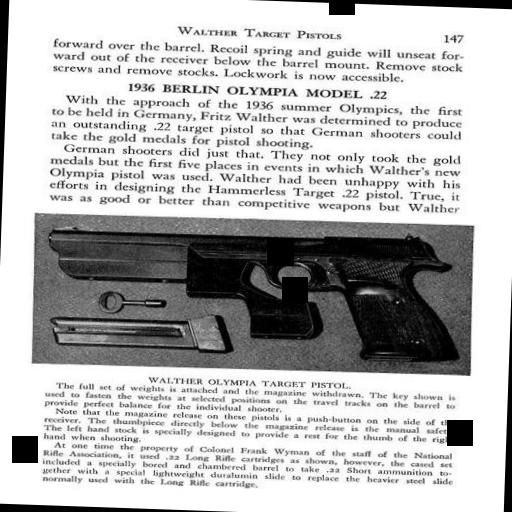Handgun: (38, 218, 462, 370)
